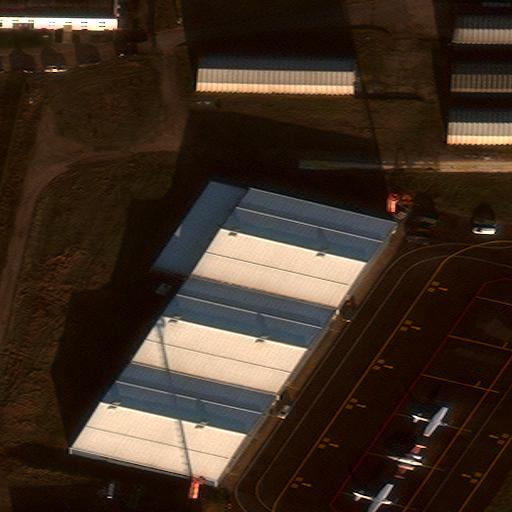Small Civil Transport: (381, 444, 424, 479), (409, 407, 449, 438), (353, 484, 393, 511)
